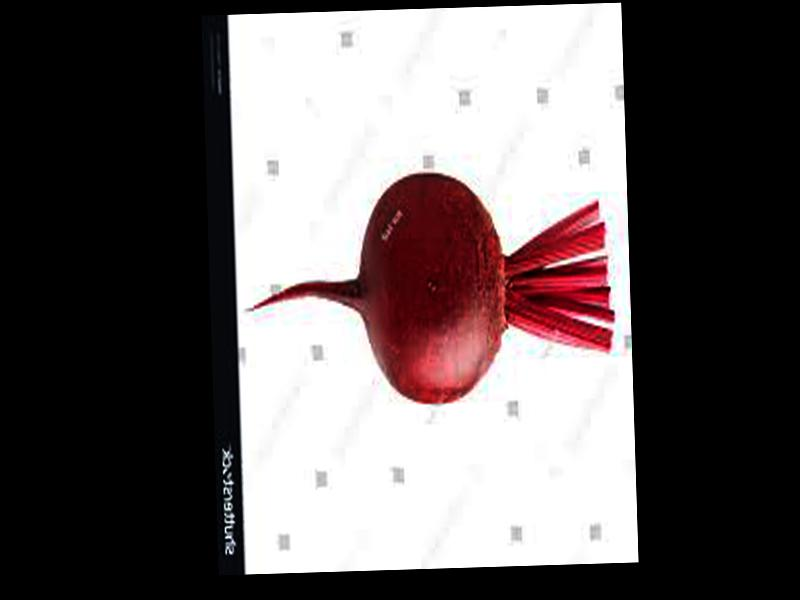Beet: (242, 167, 615, 408)
